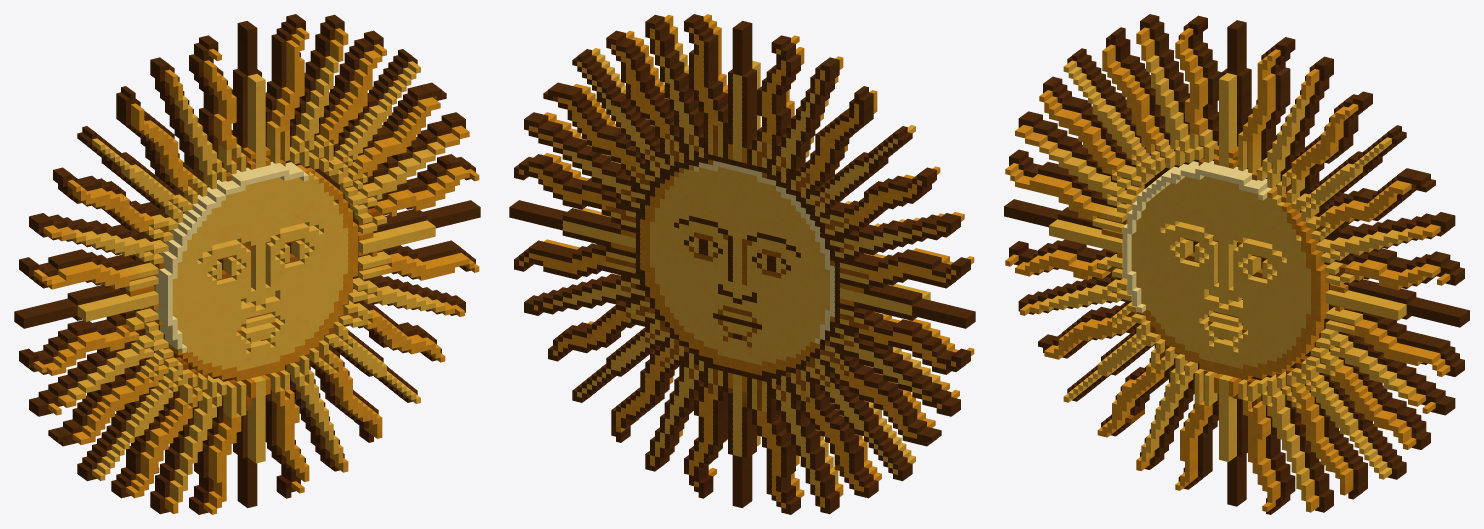
The model's file is sol.glb.
3 views of the same model, side by side, from view 1: azimuth 30°, elevation 25°; view 2: azimuth 150°, elevation 25°; view 3: azimuth 330°, elevation 25° (orthographic).
Visible parts, largest first — view 1: pixels; view 2: pixels; view 3: pixels.
Boxes of the visible parts, bbox=[...] form: pixels: bbox=[14, 14, 480, 514]; pixels: bbox=[509, 14, 975, 514]; pixels: bbox=[1004, 14, 1469, 514].
Size of the model in its own units: 94 by 94 by 8.
1 material, 1 textured.
